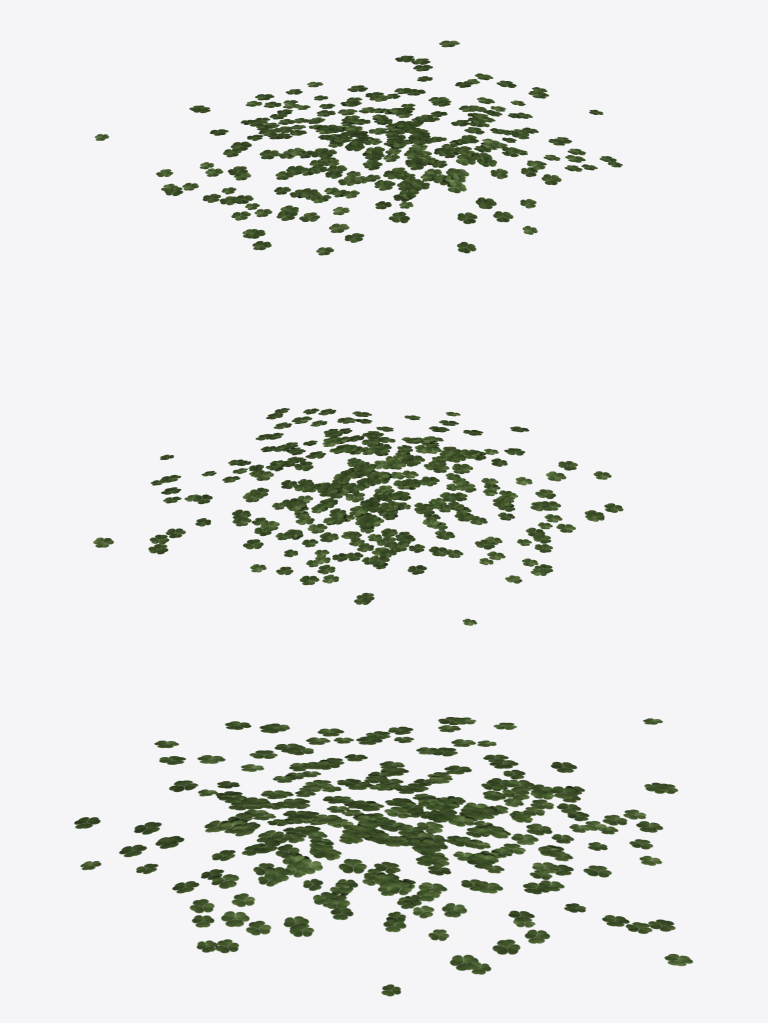
Rendered from clover3.glb.
3 views of the same model, one above another, from view 1: azimuth 30°, elevation 25°; view 2: azimuth 150°, elevation 25°; view 3: azimuth 270°, elevation 25° (orthographic). The views are drawn at different scales.
Parts seen in each view (by area): view 1: Clover-04; view 2: Clover-04; view 3: Clover-04.
Boxes of the visible parts, x1,y1,x2,y2 form: Clover-04: [95, 40, 622, 255]; Clover-04: [93, 408, 623, 625]; Clover-04: [74, 717, 692, 996].
Bounding box in the file's own units: 1.61 × 0.1119 × 1.61.
Materials: 1 (1 with a texture image).
